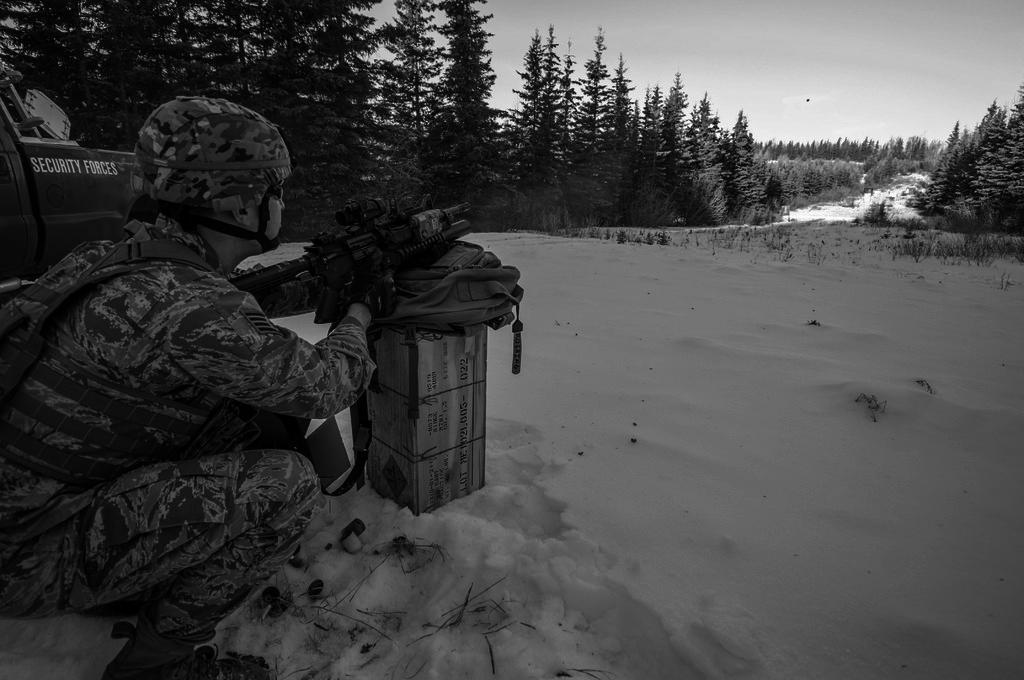gun: (248, 196, 474, 323)
